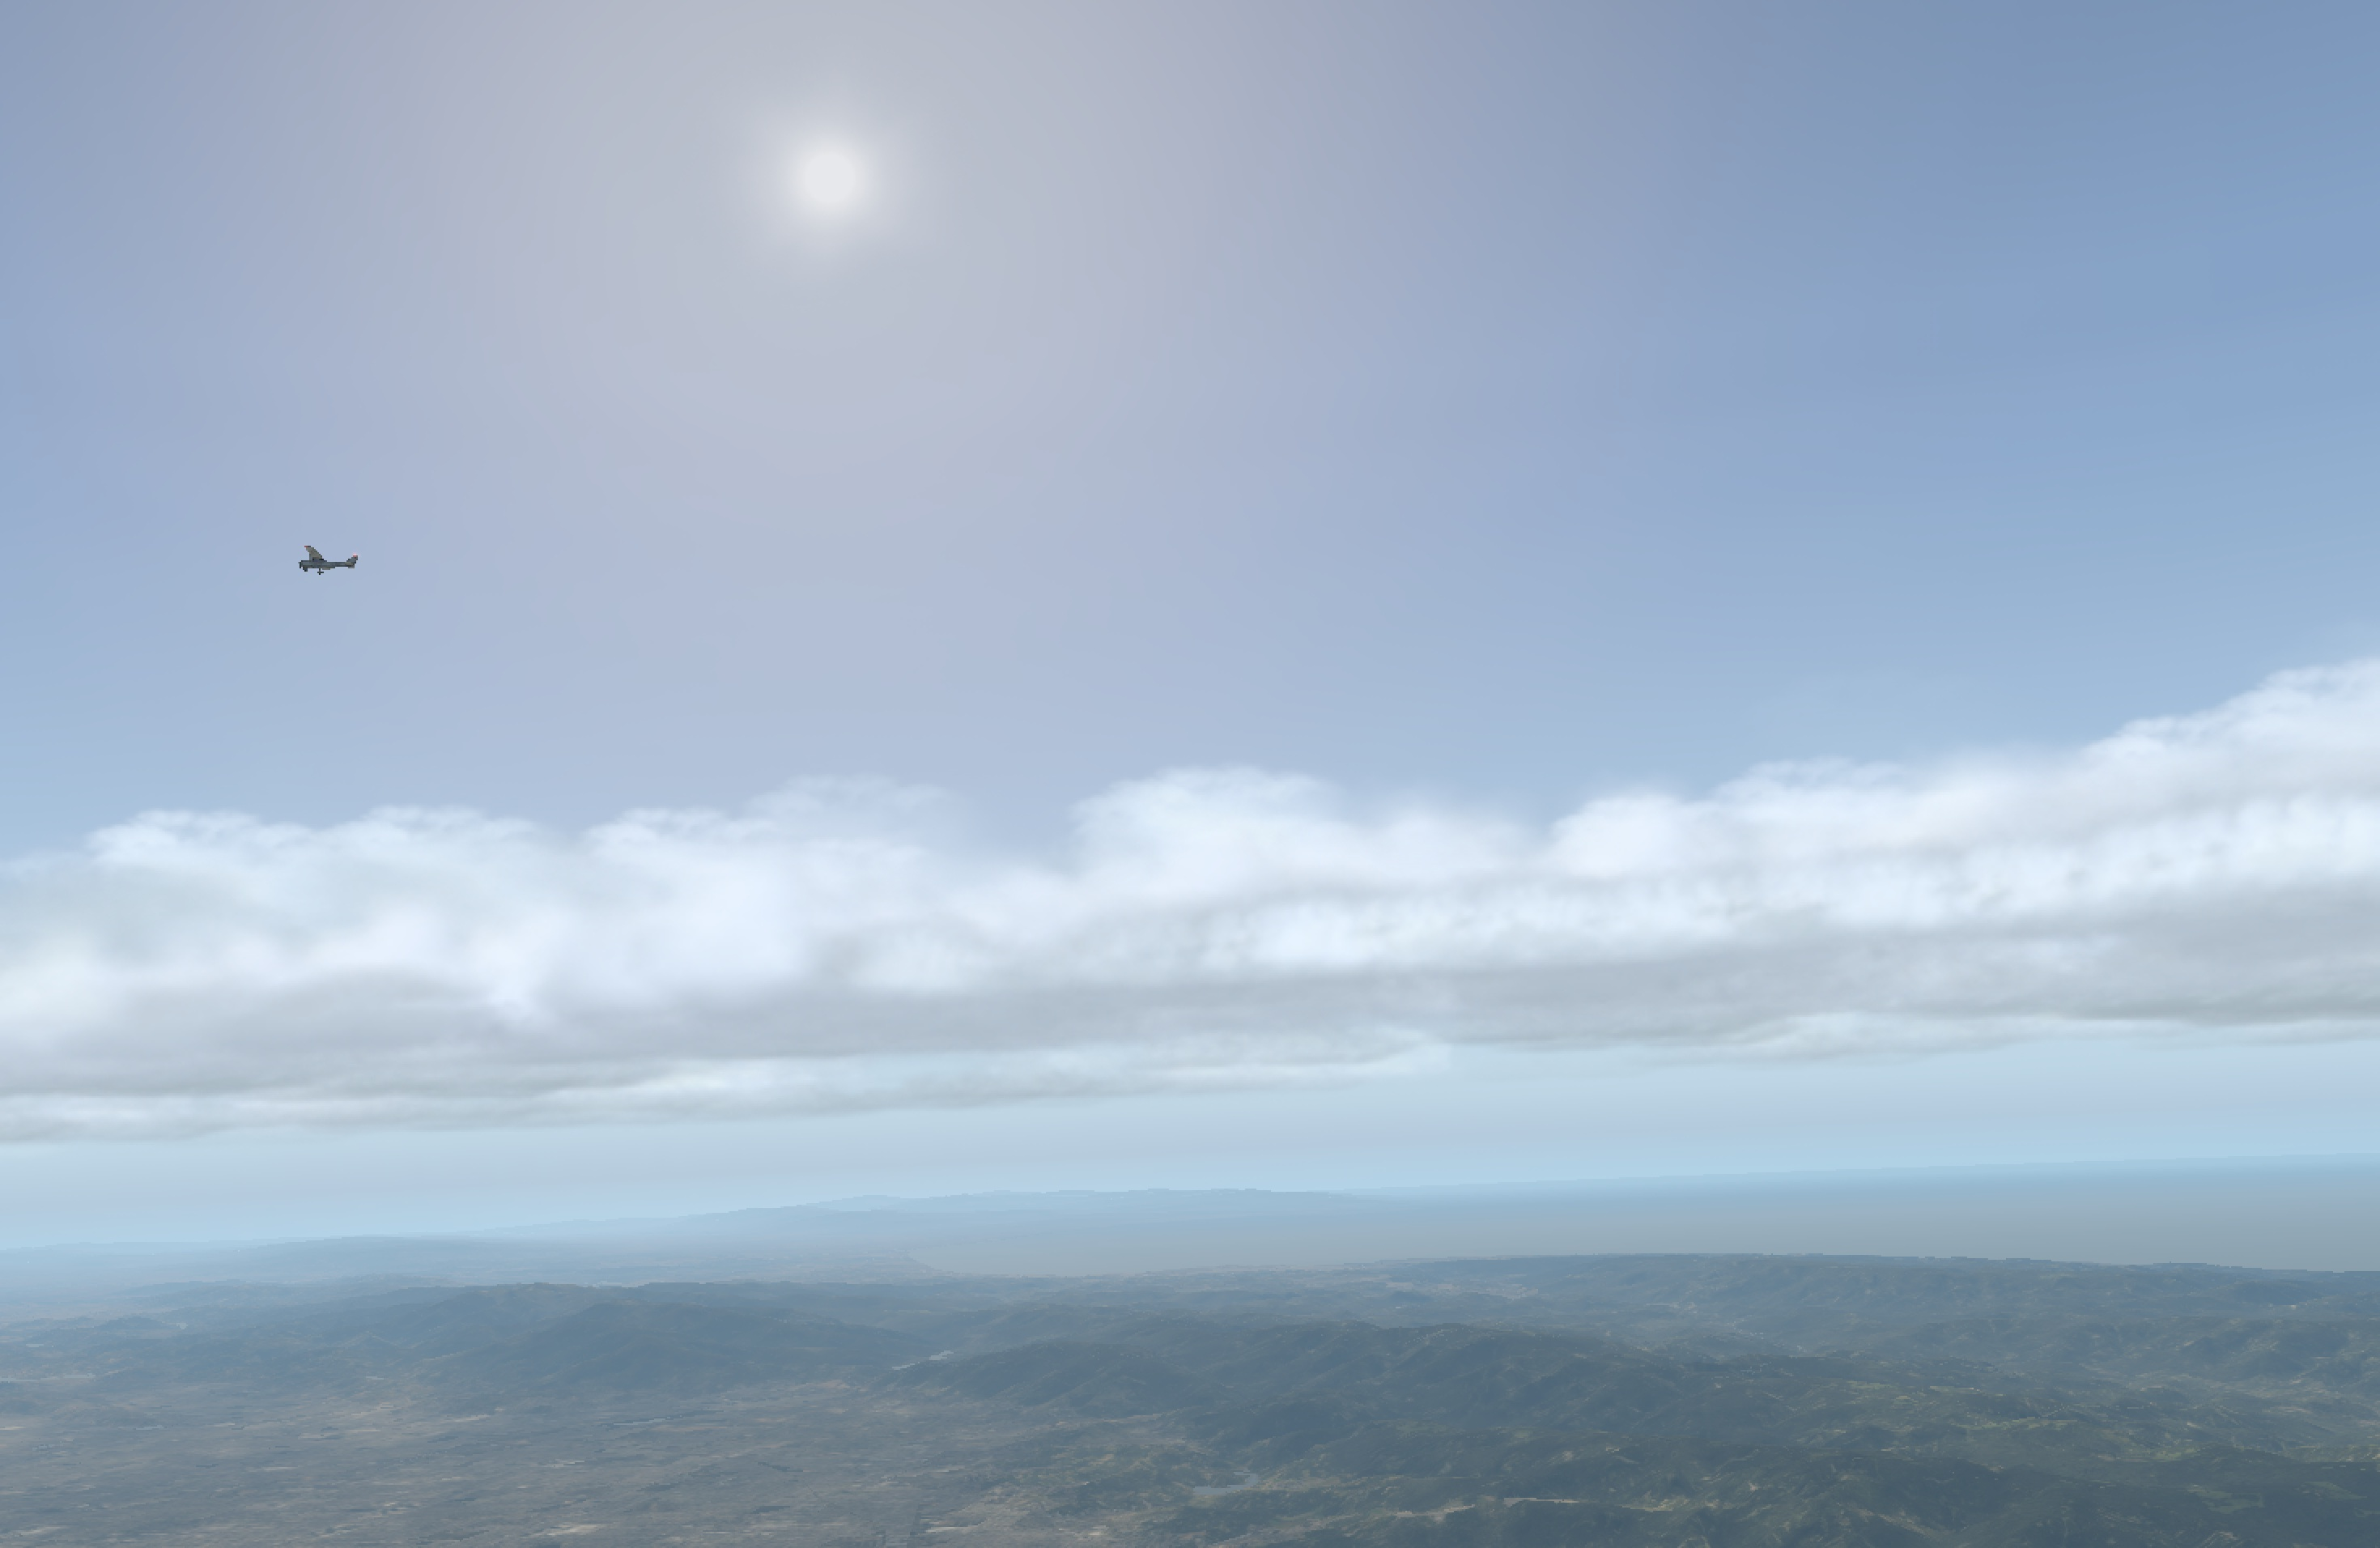aircraft: (291, 554, 342, 573)
